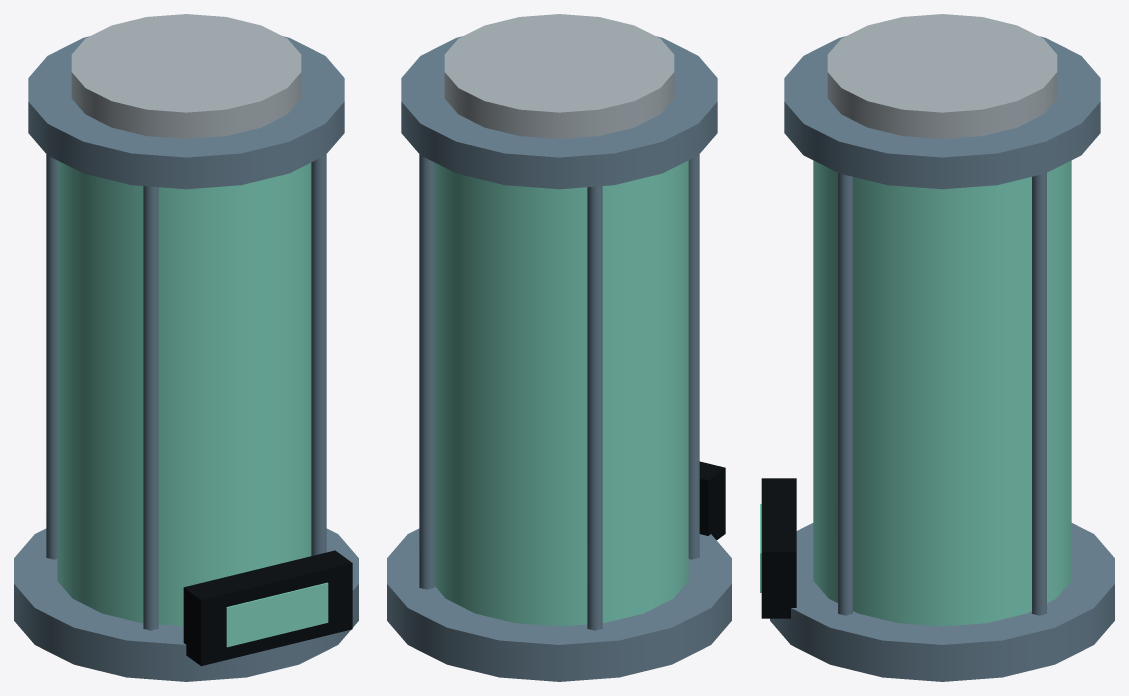
Rendered from med_bacta_tank.glb.
3 renders of one model, left to right at view 1: azimuth 30°, elevation 25°; view 2: azimuth 150°, elevation 25°; view 3: azimuth 270°, elevation 25°, orthographic.
Parts seen in each view (by area): view 1: sw5e_int_med_bacta_tank; view 2: sw5e_int_med_bacta_tank; view 3: sw5e_int_med_bacta_tank.
Part boxes in pixels (x1=…): sw5e_int_med_bacta_tank: x1=14, y1=14, x2=358, y2=681; sw5e_int_med_bacta_tank: x1=387, y1=14, x2=731, y2=681; sw5e_int_med_bacta_tank: x1=760, y1=14, x2=1114, y2=681.
Size of the model in its own units: 1.2 by 2.06 by 1.22.
